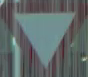Give way: (1, 1, 83, 70)
